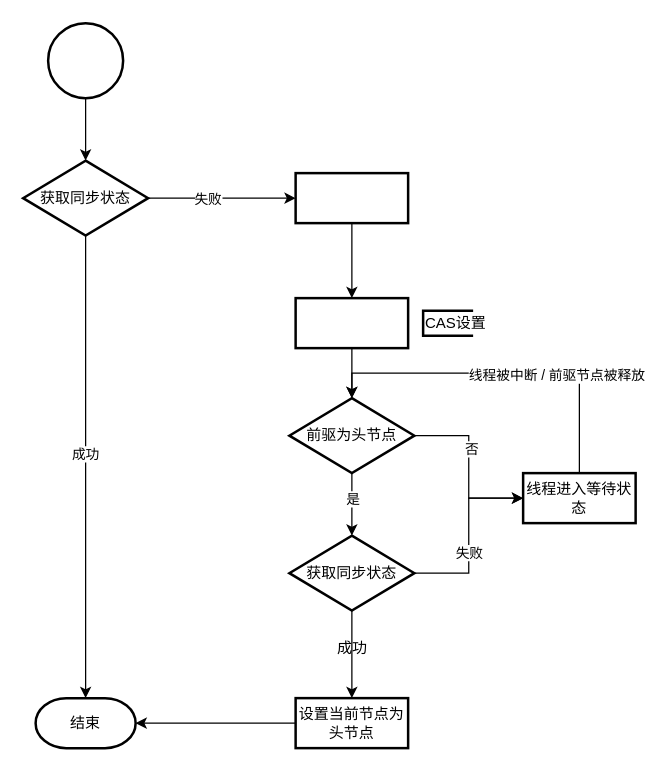
This 666x770 diagram has some shape labels left out. The shapes that lost their labels are listed below. From the top down, each one's centre as x and y in pixels, then its label:
At [85,60]: "开始".
At [351,197]: "生成节点".
At [351,322]: "加入同步队列尾部".
